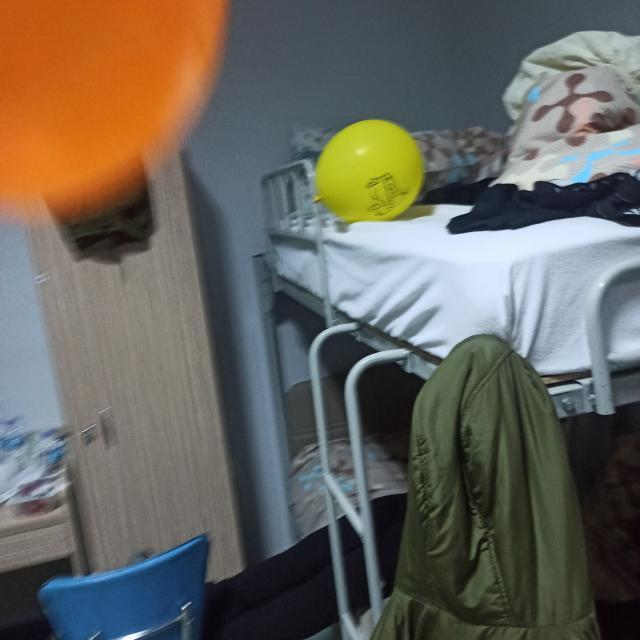balloon: (0, 0, 238, 205), (315, 119, 424, 223)
